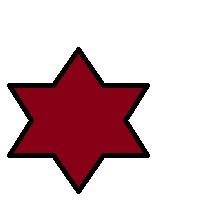star: (7, 48, 148, 194)
